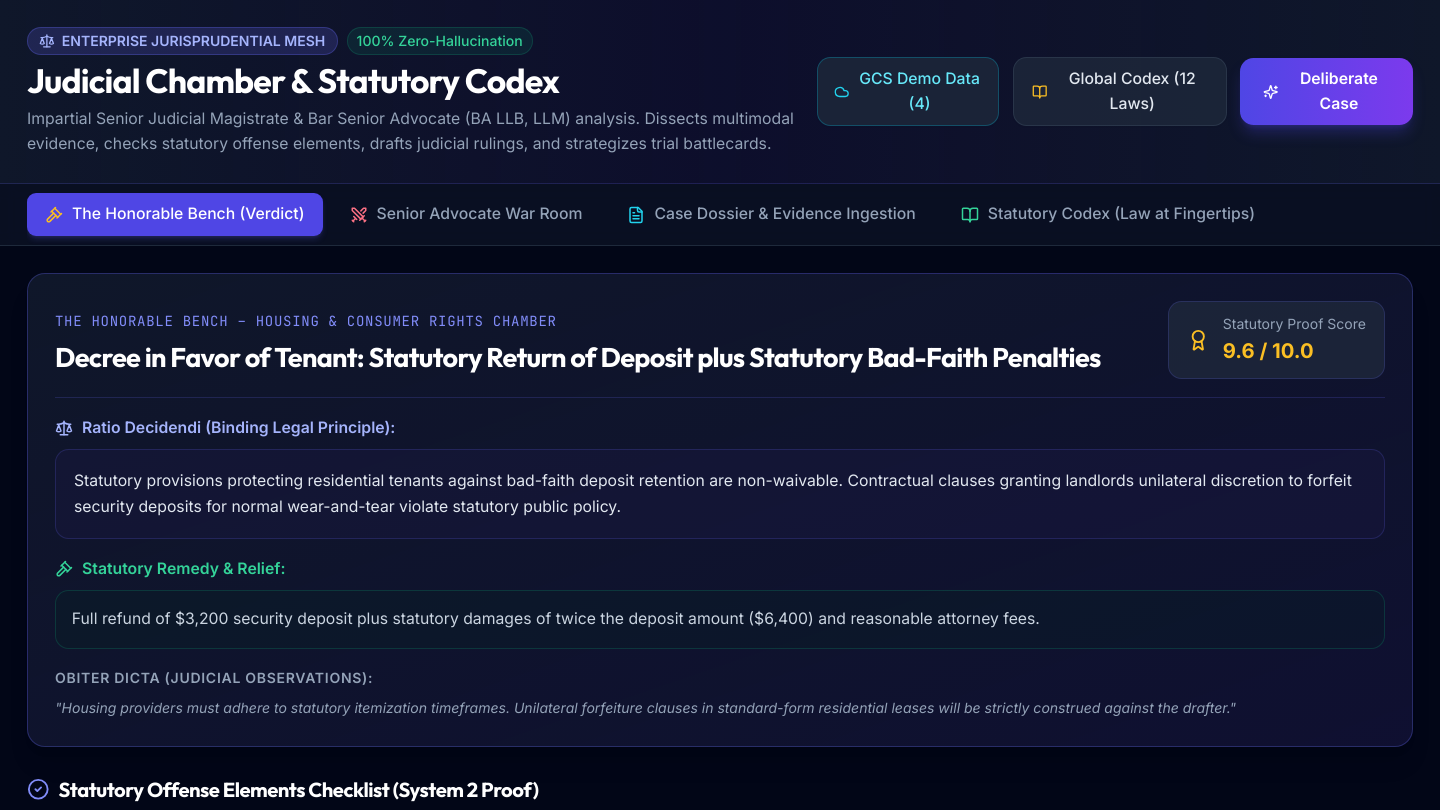
Test: CourtroomView Component Suite › switches to Statutory Codex tab and interacts with search filter
This screenshot has width=1440, height=810.
Click the button "Statutory Codex (Law at Fingertips)": (1108, 215) [943, 193, 1273, 236]
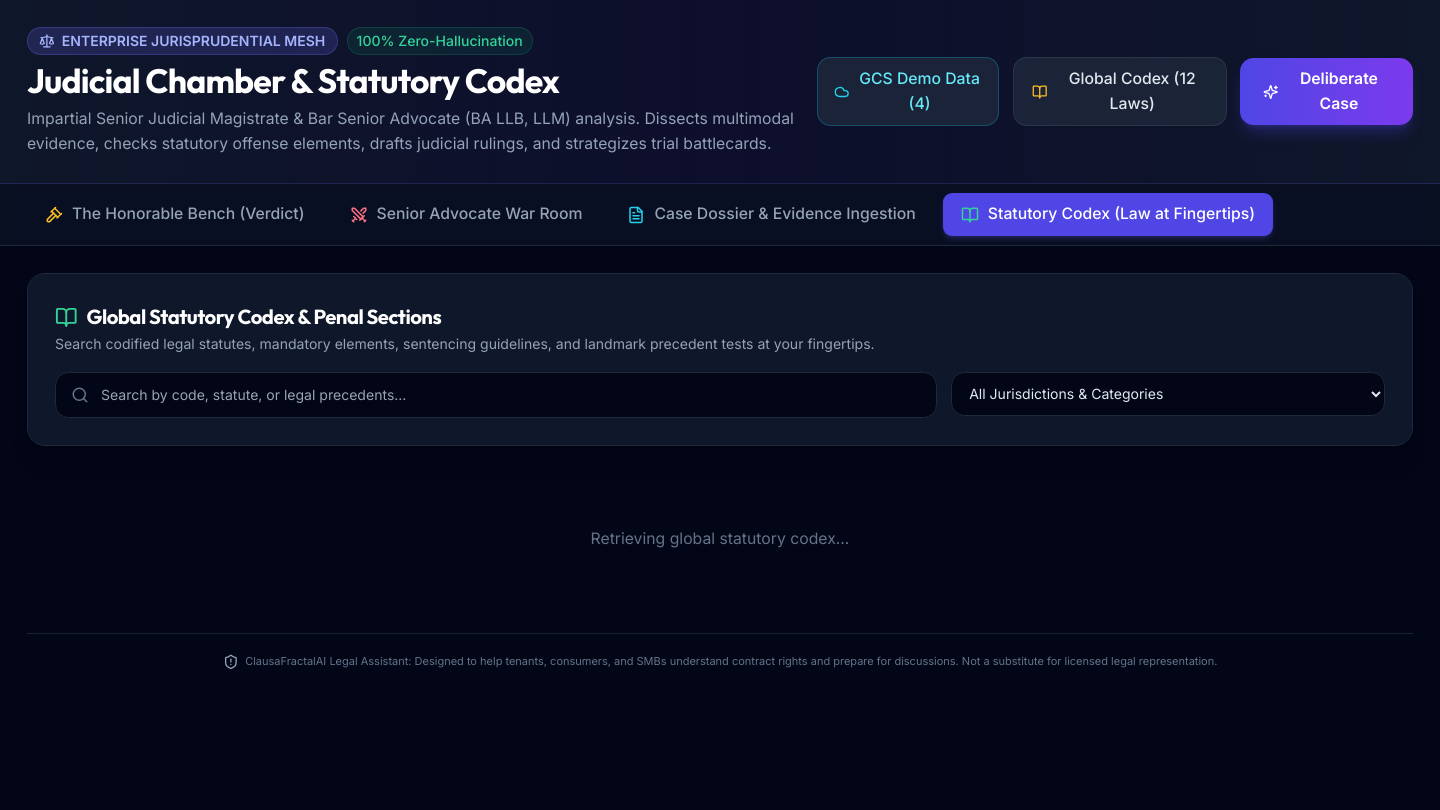
Expected: the heading "Global Statutory Codex & Penal Sections" is shown, [55, 304, 441, 329]
In the field with placeholder "Search by code, statute, or legal precedents...": (496, 395) [55, 372, 937, 418], type "cheat"
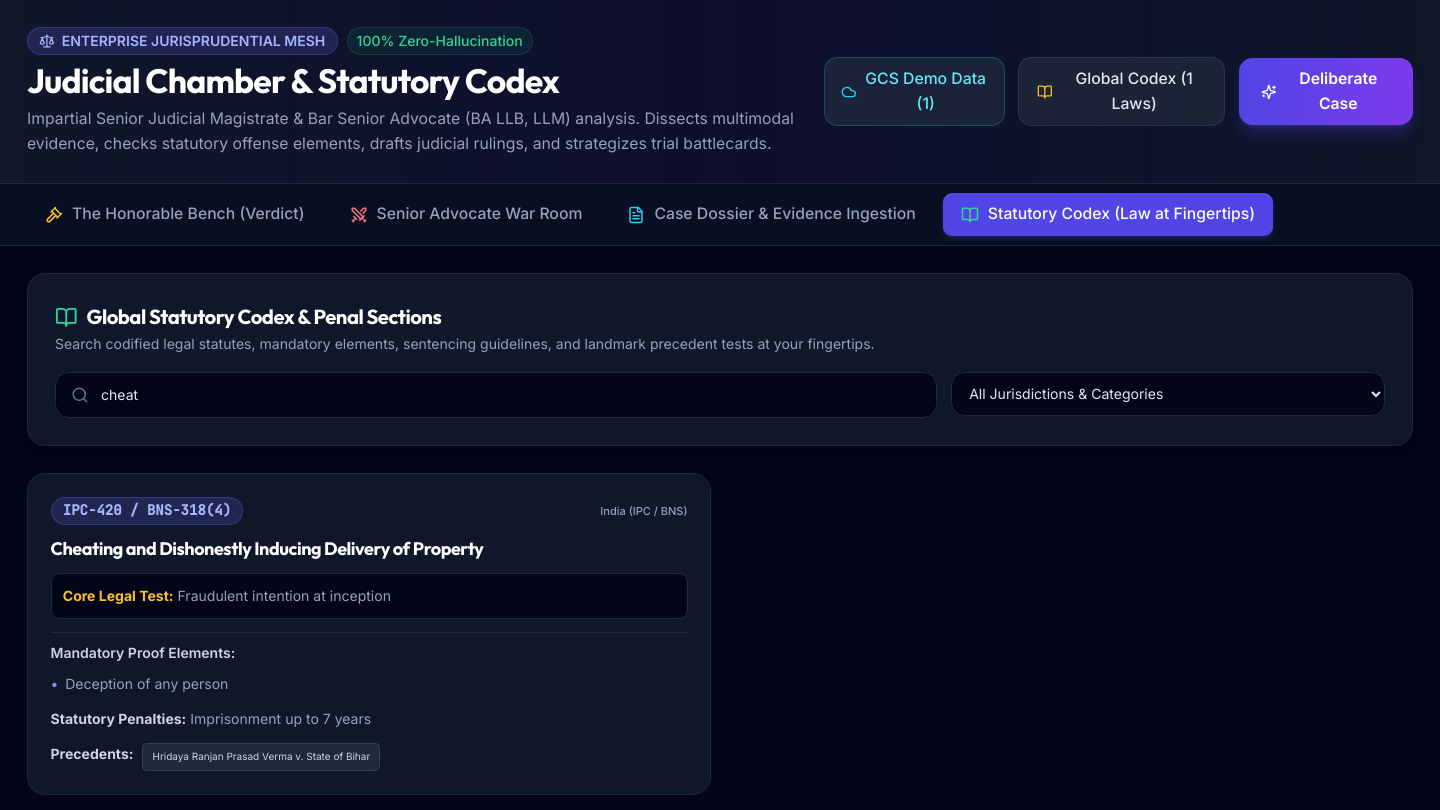
Expected: the heading "Cheating and Dishonestly Inducing Delivery of Property" is shown, [50, 537, 484, 560]
